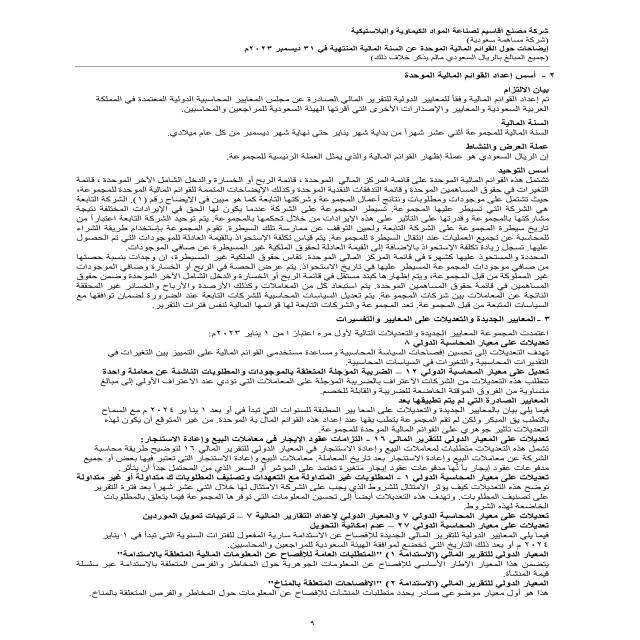notes: (418, 44, 555, 54)
text: (23, 66, 564, 603)
